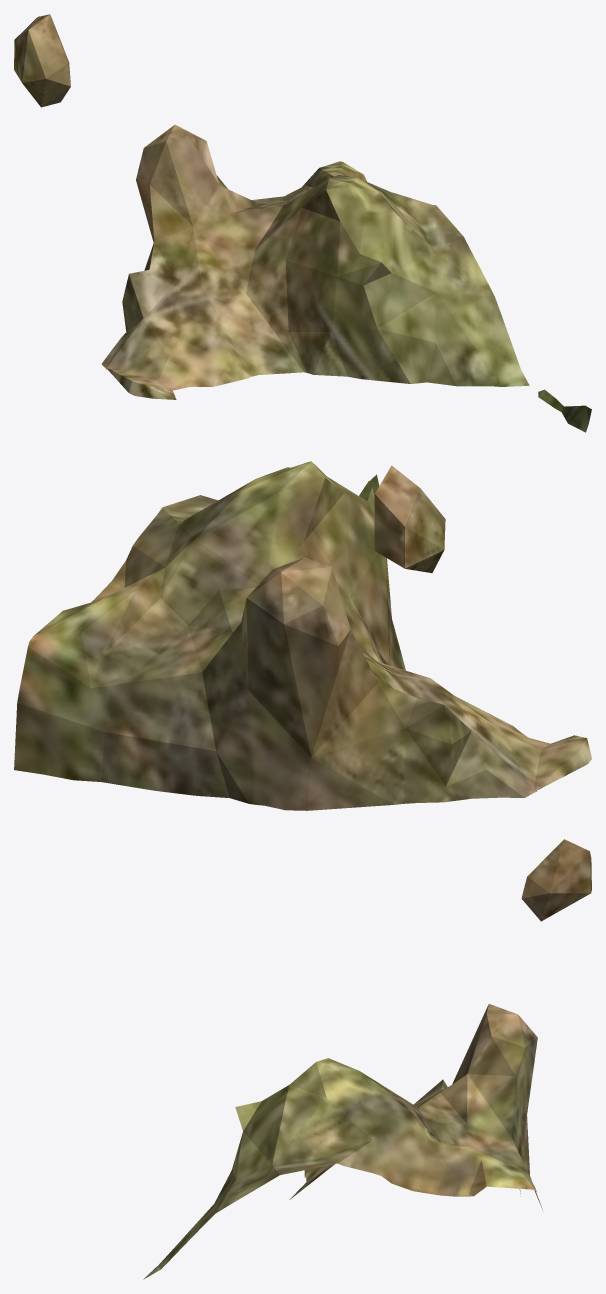
3 views of the same model, one above another, from view 1: azimuth 30°, elevation 25°; view 2: azimuth 150°, elevation 25°; view 3: azimuth 270°, elevation 25° (orthographic). The views are drawn at different scales.
Size of the model in its own units: 1.18 by 1.05 by 1.84.
Materials: 1 (1 with a texture image).
